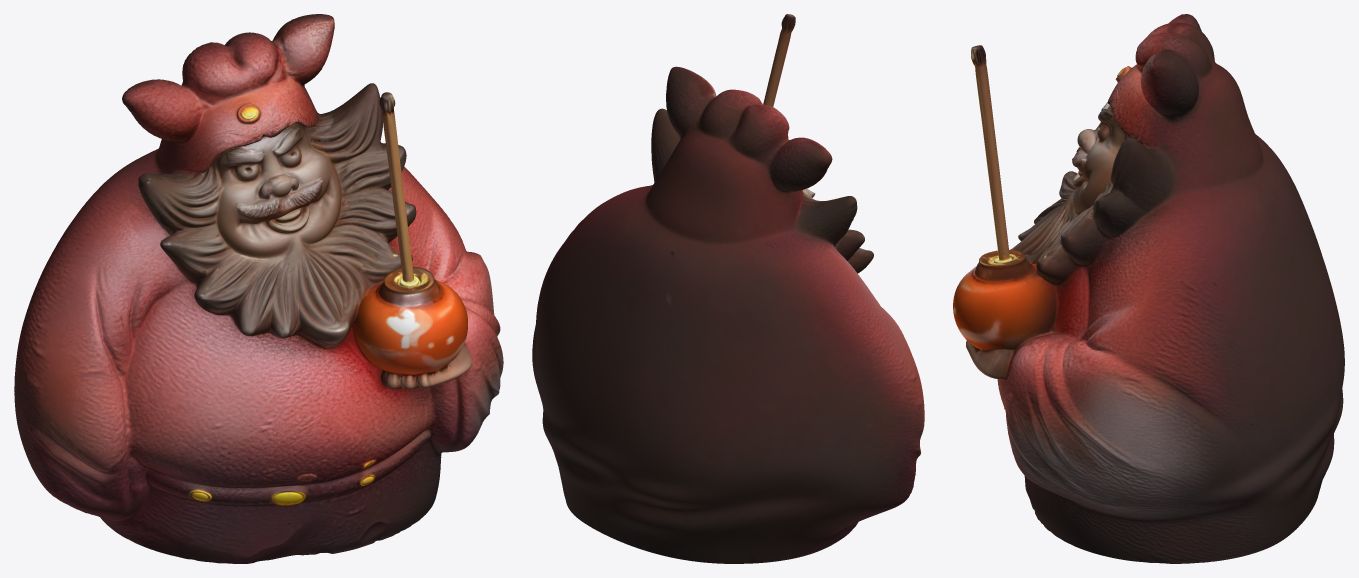
Rendered from wire-holder.glb.
3 views of the same model, side by side, from view 1: azimuth 30°, elevation 25°; view 2: azimuth 150°, elevation 25°; view 3: azimuth 270°, elevation 25° (orthographic). The views are drawn at different scales.
Visible parts, largest first — view 1: node_0; view 2: node_0; view 3: node_0.
Part boxes in pixels (x1,y1,x2,y2): node_0: (14,14,503,563); node_0: (532,14,924,563); node_0: (953,14,1344,563).
Size of the model in its own units: 0.9061 by 0.9557 by 0.7406.
1 material, 1 textured.
